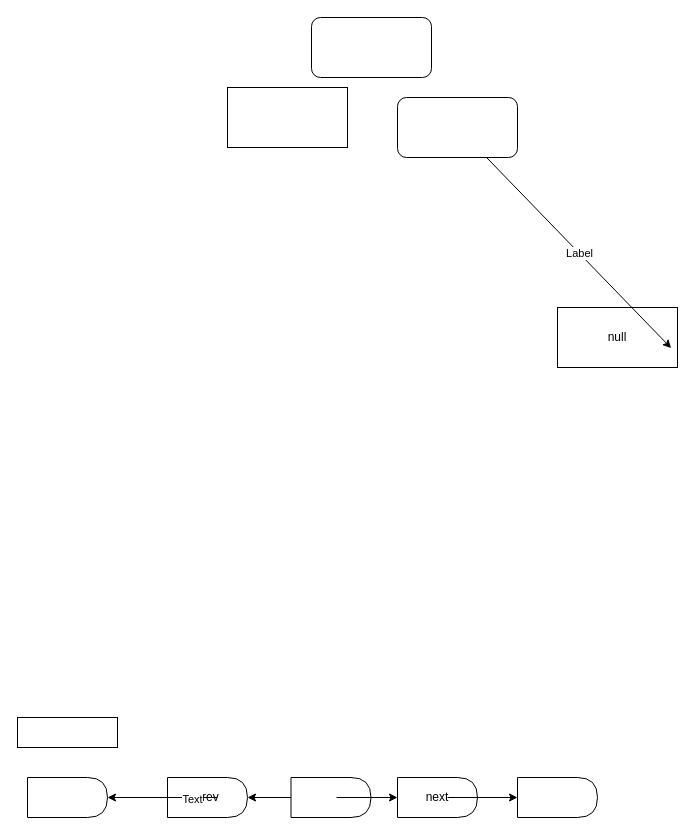
The diagram is 697 pixels wide and 835 high, and some of its shapes have lost their labels. Each missing label, with the centre of its shape:
"head" belongs at point 457,127.
"vurrent" belongs at point 330,797.
